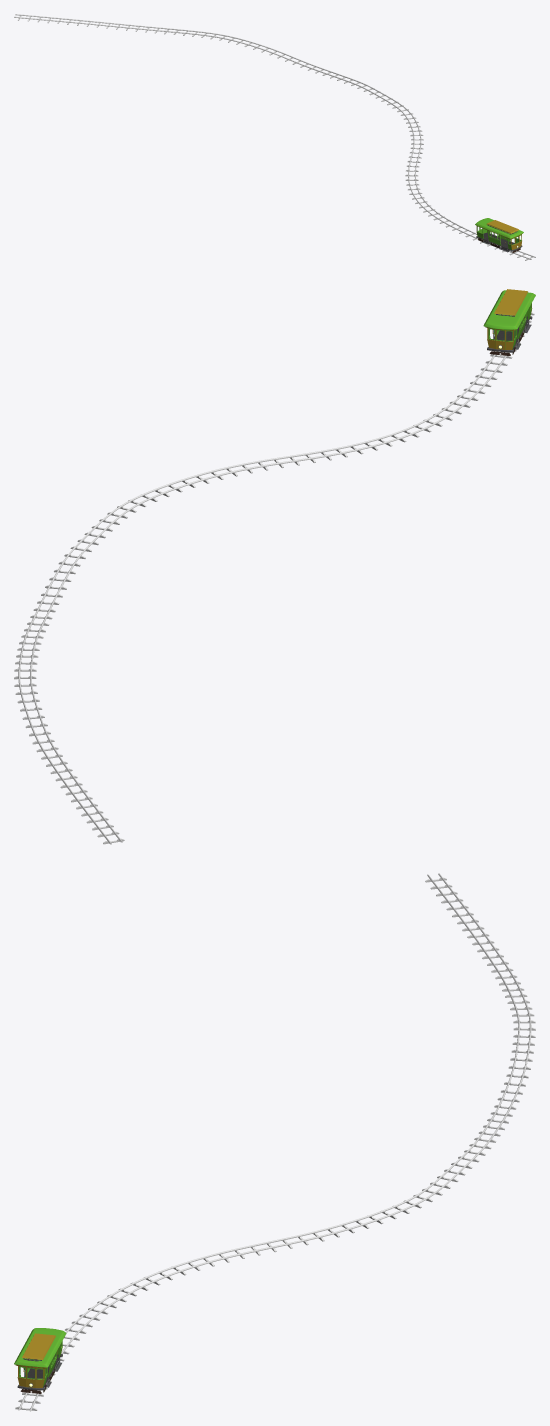
The model's file is Train with anim.fbx.
3 renders of one model, top to bottom at view 1: azimuth 30°, elevation 25°; view 2: azimuth 150°, elevation 25°; view 3: azimuth 330°, elevation 25°, orthographic. The views are drawn at different scales.
Parts seen in each view (by area): view 1: Cube.022, model_7; view 2: Cube.022, model_7; view 3: Cube.022, model_7.
Boxes of the visible parts, x1=… form: Cube.022: x1=14, y1=14, x2=535, y2=260; model_7: x1=475, y1=218, x2=523, y2=253; Cube.022: x1=14, y1=312, x2=534, y2=844; model_7: x1=483, y1=289, x2=535, y2=355; Cube.022: x1=15, y1=873, x2=535, y2=1411; model_7: x1=14, y1=1328, x2=66, y2=1393.
Bounding box in the file's own units: 3618 × 387 × 11959.
Materials: 3 (1 with a texture image).
